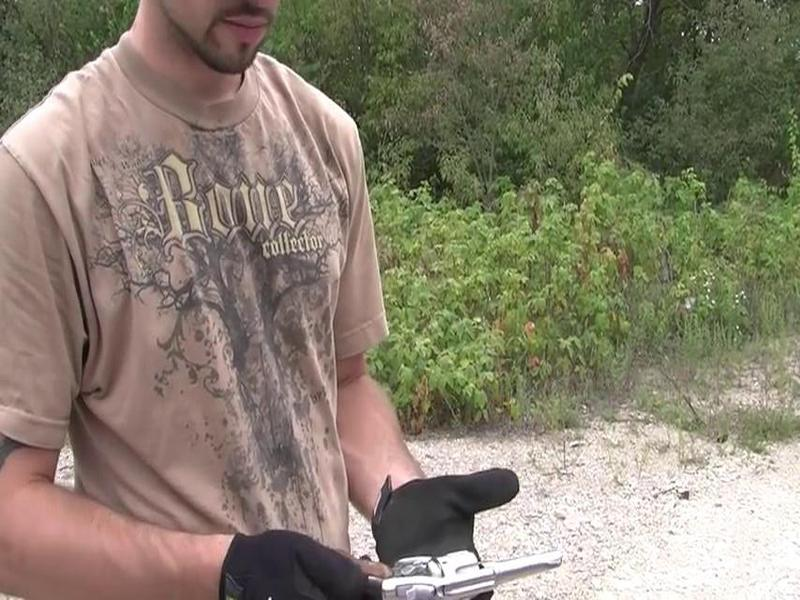Revolver: (357, 536, 583, 600)
